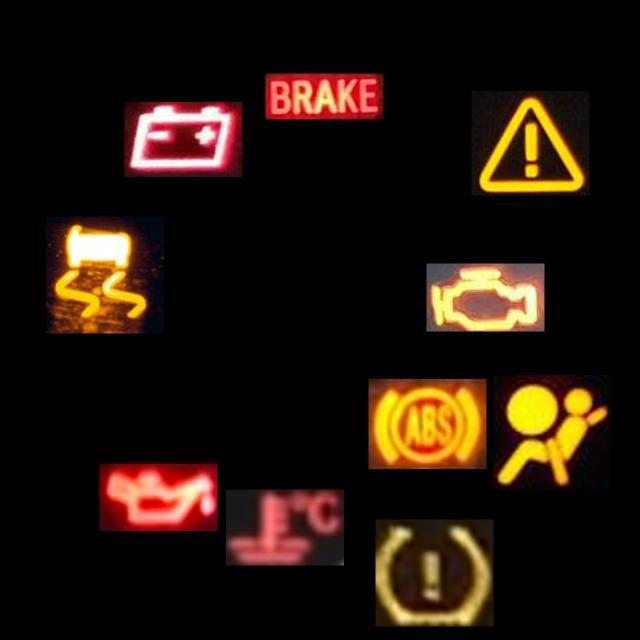Central Warning lamp: (472, 91, 590, 195)
Engine cooling system: (226, 490, 344, 566)
